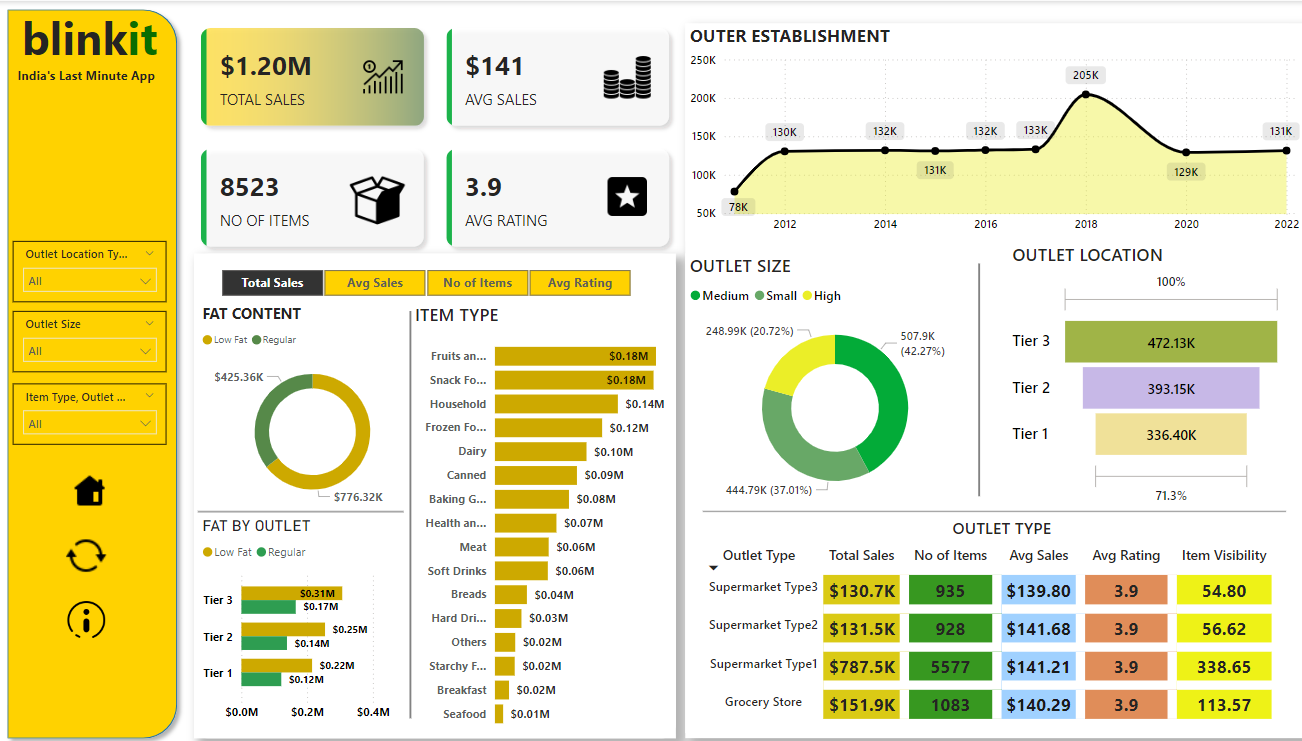

The page's visual inventory and layout, read from the dashboard file:
{"tool":"powerbi","page":{"name":"Page 1","canvas":[1400,800],"ordinal":0},"visuals":[{"type":"shape","box":[0,0,200,800],"z":0},{"type":"textbox","box":[14.4,65.6,185.6,36.8],"z":1000},{"type":"textbox","box":[504,0,196.8,750.4],"z":2000},{"type":"textbox","box":[14.4,1.6,164.8,83.2],"z":3000},{"type":"cardVisual","fields":{"Data":["BlinkIT Grocery Data.Total Sales","BlinkIT Grocery Data.Avg Sales","BlinkIT Grocery Data.No of Items","BlinkIT Grocery Data.Avg Rating"]},"box":[199.7,12.1,536.2,269.4],"z":4000},{"type":"shape","box":[209.6,270.4,516.8,520],"z":5000},{"type":"donutChart","title":"FAT CONTENT","fields":{"Y":["BlinkIT Grocery Data.Total Sales"],"Category":["BlinkIT Grocery Data.Item Fat Content"]},"box":[212.8,323.2,246.4,228.8],"z":6000},{"type":"slicer","fields":{"Values":["Metrics.Metrics"]},"box":[212.8,281.6,488,41.6],"z":7000},{"type":"clusteredBarChart","title":"FAT BY OUTLET","fields":{"Y":["BlinkIT Grocery Data.Total Sales"],"Category":["BlinkIT Grocery Data.Outlet Location Type"],"Series":["BlinkIT Grocery Data.Item Fat Content"]},"box":[212.8,552,220.8,228.8],"z":8000},{"type":"shape","box":[212.8,526.4,220.8,41.6],"z":9000},{"type":"shape","box":[424,332.8,35.2,436.8],"z":10000},{"type":"clusteredBarChart","title":"ITEM TYPE","fields":{"Y":["BlinkIT Grocery Data.Total Sales"],"Category":["BlinkIT Grocery Data.Item Type"]},"box":[441.6,323.2,313.6,467.2],"z":11000},{"type":"shape","box":[736,24,664,766.4],"z":12000},{"type":"lineChart","title":"OUTER ESTABLISHMENT","fields":{"Category":["BlinkIT Grocery Data.Outlet Establishment Year"],"Y":["Sum(BlinkIT Grocery Data.Sales)"]},"box":[736,24,664,233.6],"z":13000},{"type":"donutChart","title":"OUTLET SIZE","fields":{"Y":["Sum(BlinkIT Grocery Data.Sales)"],"Category":["BlinkIT Grocery Data.Outlet Size"]},"box":[736,270.4,321.6,276.8],"z":14000},{"type":"shape","box":[1033.6,281.6,35.2,249.6],"z":15000},{"type":"shape","box":[755.2,526.4,625.6,41.6],"z":16000},{"type":"funnel","title":"OUTLET LOCATION","fields":{"Y":["Sum(BlinkIT Grocery Data.Sales)"],"Category":["BlinkIT Grocery Data.Outlet Location Type"]},"box":[1081.6,259.2,299.2,288],"z":17000},{"type":"pivotTable","title":"OUTLET TYPE","fields":{"Rows":["BlinkIT Grocery Data.Outlet Type"],"Values":["BlinkIT Grocery Data.Total Sales","BlinkIT Grocery Data.No of Items","BlinkIT Grocery Data.Avg Sales","BlinkIT Grocery Data.Avg Rating","Sum(BlinkIT Grocery Data.Item Visibility)"]},"box":[736,548.8,664,236.8],"z":18000},{"type":"slicer","fields":{"Values":["BlinkIT Grocery Data.Outlet Location Type"]},"box":[14.4,257.6,164.8,65.6],"z":19000},{"type":"slicer","fields":{"Values":["BlinkIT Grocery Data.Outlet Size"]},"box":[14.4,332.8,164.8,65.6],"z":20000},{"type":"slicer","fields":{"Values":["BlinkIT Grocery Data.Item Type","BlinkIT Grocery Data.Outlet Size"]},"box":[14.4,409.6,164.8,65.6],"z":21000},{"type":"image","box":[72,496,49.6,60.8],"z":22000},{"type":"image","box":[67.2,568,52.8,52.8],"z":23000},{"type":"image","box":[65.6,636.8,56,54.4],"z":24000}]}

Visuals, with their boxes in screenshot pixels (x1, y1, x2, y2), scaled from the page's 1400x800 canvas onto the 1302x741 screenshot:
shape: BBox(0, 0, 186, 740)
textbox: BBox(13, 61, 186, 95)
textbox: BBox(469, 0, 652, 695)
textbox: BBox(13, 1, 167, 79)
cardVisual - BlinkIT Grocery Data.Total Sales x BlinkIT Grocery Data.Avg Sales: BBox(186, 11, 684, 261)
shape: BBox(195, 250, 676, 732)
"FAT CONTENT" donutChart: BBox(198, 299, 427, 511)
slicer - Metrics.Metrics: BBox(198, 261, 652, 299)
"FAT BY OUTLET" clusteredBarChart: BBox(198, 511, 403, 723)
shape: BBox(198, 488, 403, 526)
shape: BBox(394, 308, 427, 713)
"ITEM TYPE" clusteredBarChart: BBox(411, 299, 702, 732)
shape: BBox(684, 22, 1301, 732)
"OUTER ESTABLISHMENT" lineChart: BBox(684, 22, 1301, 239)
"OUTLET SIZE" donutChart: BBox(684, 250, 984, 507)
shape: BBox(961, 261, 994, 492)
shape: BBox(702, 488, 1284, 526)
"OUTLET LOCATION" funnel: BBox(1006, 240, 1284, 507)
"OUTLET TYPE" pivotTable: BBox(684, 508, 1301, 728)
slicer - BlinkIT Grocery Data.Outlet Location Type: BBox(13, 239, 167, 299)
slicer - BlinkIT Grocery Data.Outlet Size: BBox(13, 308, 167, 369)
slicer - BlinkIT Grocery Data.Item Type x BlinkIT Grocery Data.Outlet Size: BBox(13, 379, 167, 440)
image: BBox(67, 459, 113, 516)
image: BBox(62, 526, 112, 575)
image: BBox(61, 590, 113, 640)
